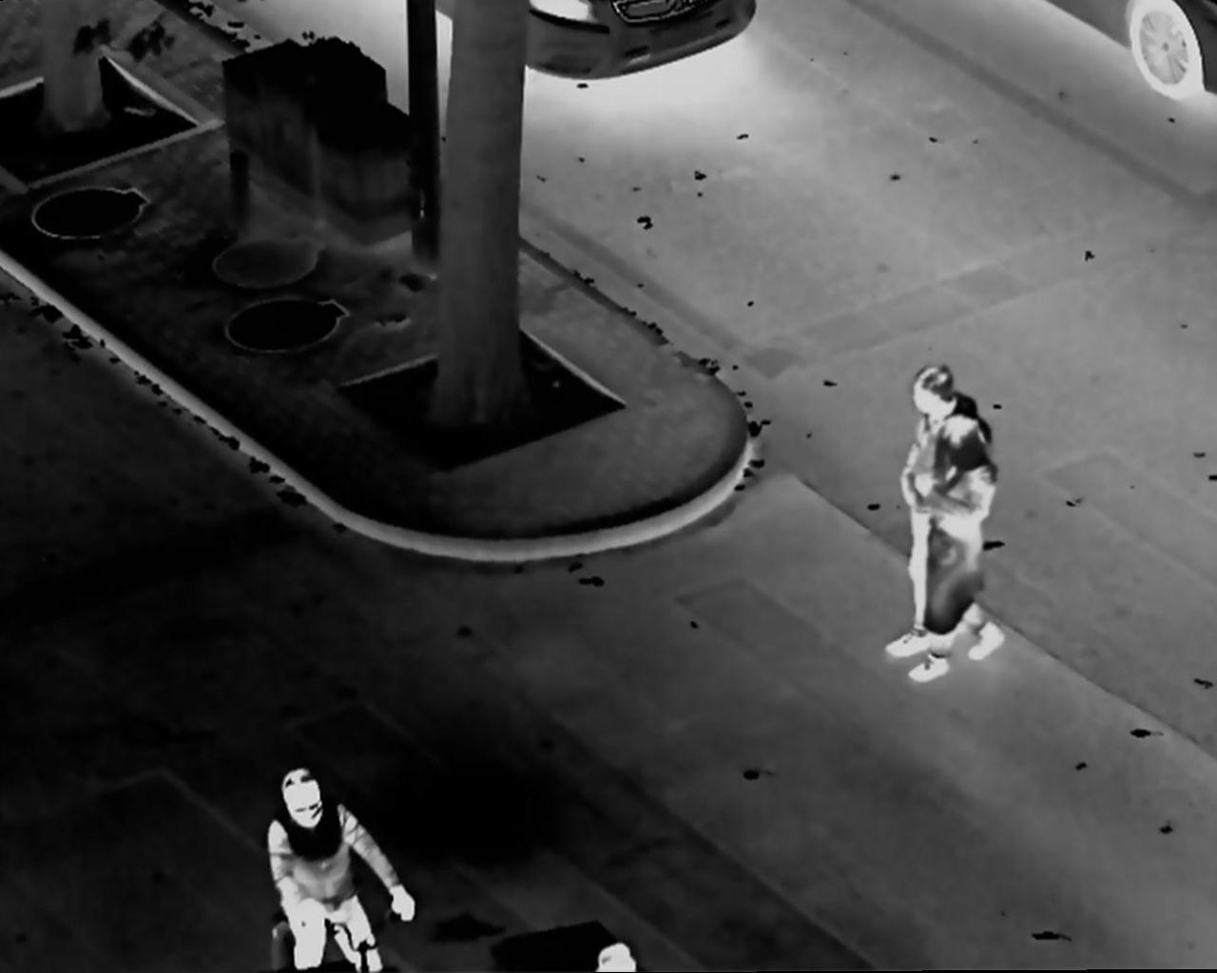person: (250, 764, 419, 973), (884, 362, 980, 658), (903, 400, 1003, 678)
